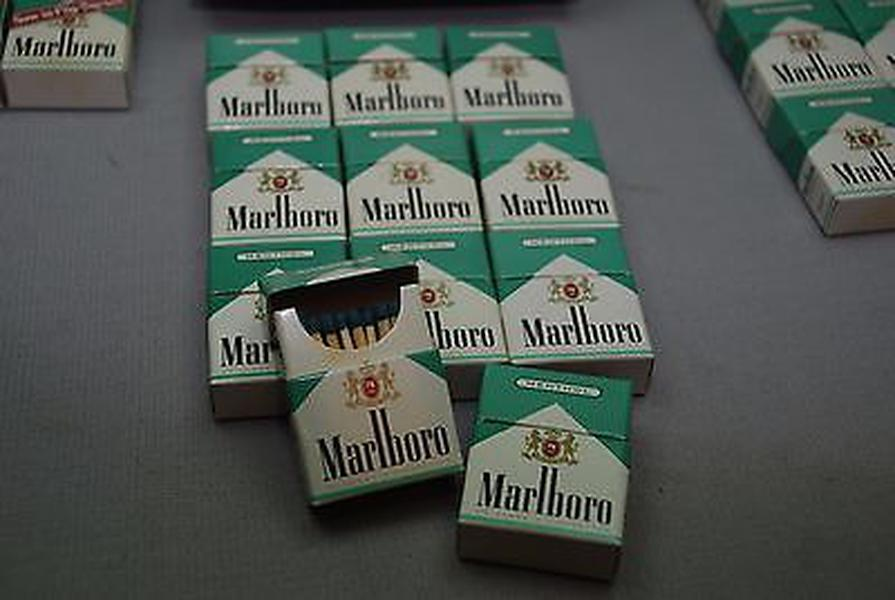marlboro_mentol: (302, 281, 448, 488), (475, 373, 629, 533), (502, 233, 644, 365), (213, 248, 336, 379), (215, 131, 342, 242), (346, 129, 475, 238), (381, 242, 498, 358), (481, 125, 611, 229), (744, 6, 867, 98), (208, 36, 329, 127), (333, 33, 446, 125), (796, 96, 895, 198), (454, 31, 563, 123)
